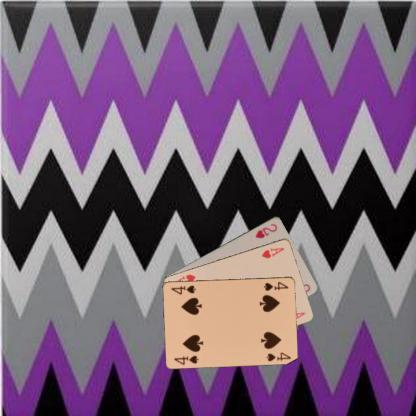2h: (252, 221, 278, 239)
4s: (261, 278, 290, 292), (172, 352, 200, 366)
Ah: (258, 245, 286, 259)
